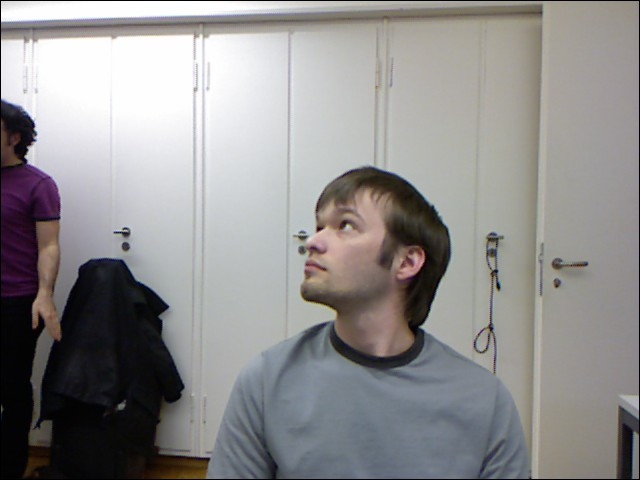deflection: (263, 177, 501, 480)
